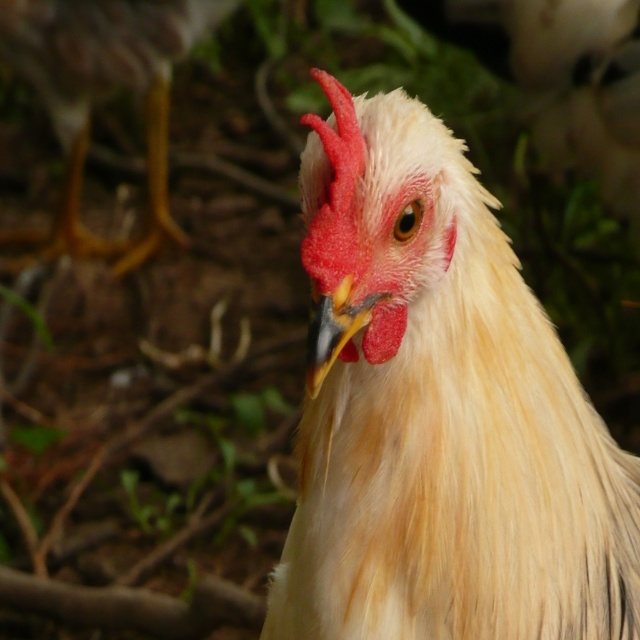Chicken: (258, 68, 640, 639)
